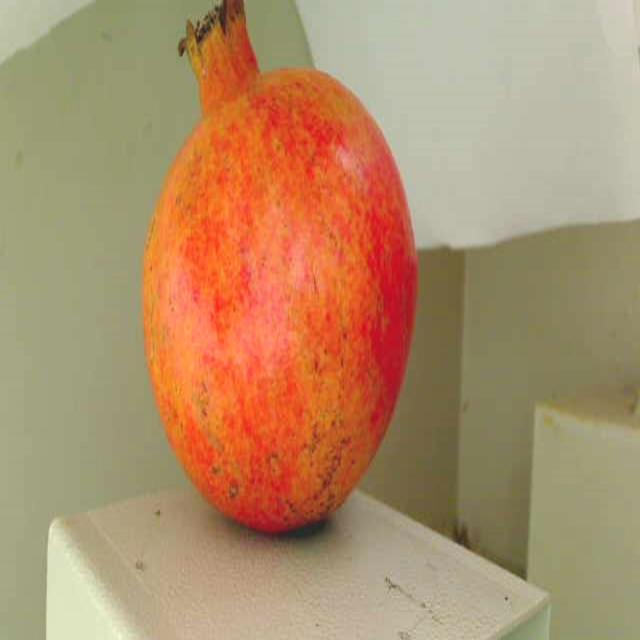pomegranate: (129, 0, 411, 567)
